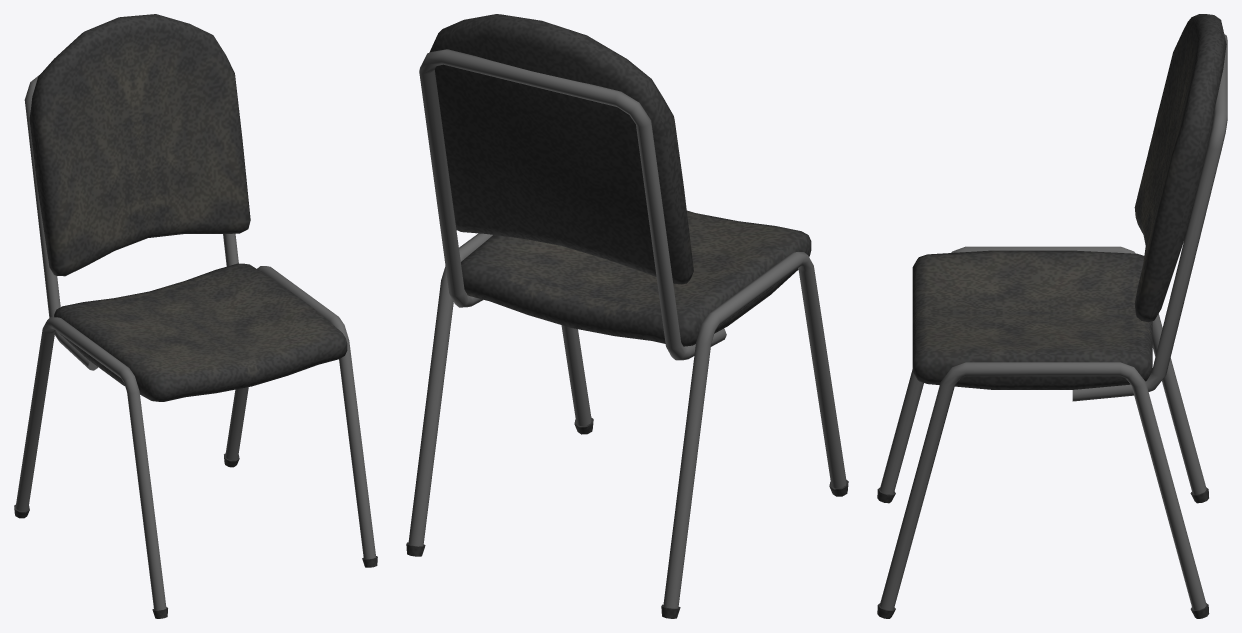
The model's file is Stuhl.fbx.
3 views of the same model, side by side, from view 1: azimuth 30°, elevation 25°; view 2: azimuth 150°, elevation 25°; view 3: azimuth 270°, elevation 25° (orthographic). The views are drawn at different scales.
Visible parts, largest first — view 1: Cylinder.001; view 2: Cylinder.001; view 3: Cylinder.001.
Part boxes in pixels (x1=…): Cylinder.001: x1=14, y1=14, x2=377, y2=618; Cylinder.001: x1=406, y1=14, x2=848, y2=618; Cylinder.001: x1=877, y1=14, x2=1227, y2=618.
Size of the model in its own units: 435 by 871 by 521.
